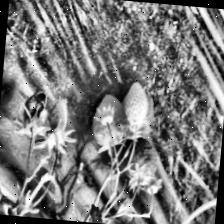Gray Mold: (32, 95, 80, 158), (10, 88, 57, 141)
